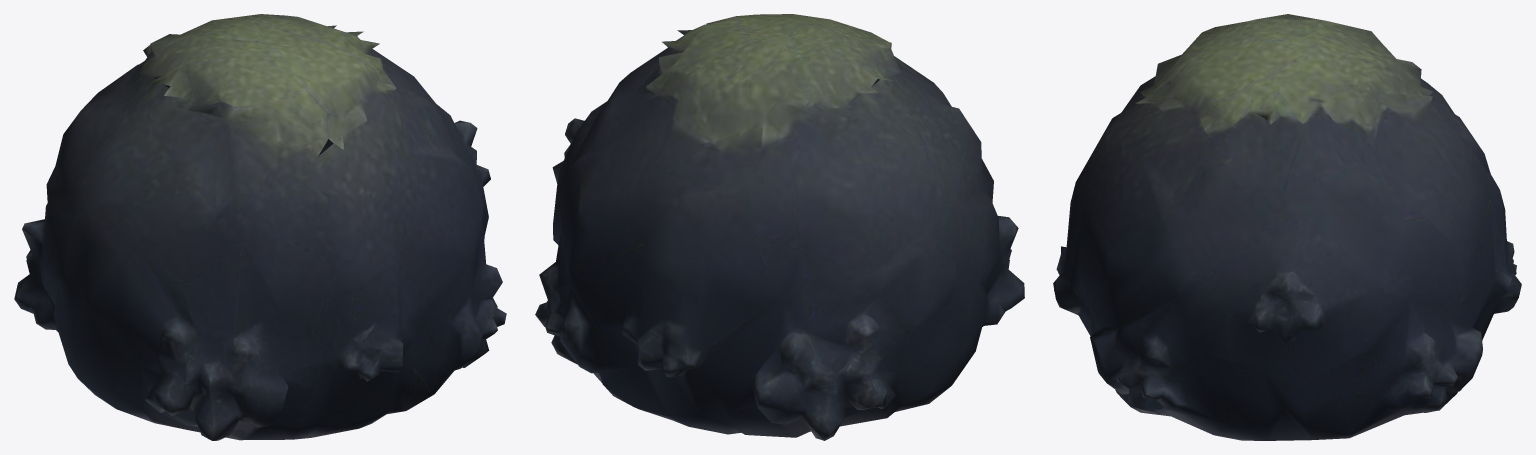
The model's file is sea-rock-mossy.lod.glb.
3 views of the same model, side by side, from view 1: azimuth 30°, elevation 25°; view 2: azimuth 150°, elevation 25°; view 3: azimuth 270°, elevation 25° (orthographic).
Bounding box in the file's own units: 1.87 × 1.59 × 1.89.
1 material, 1 textured.
